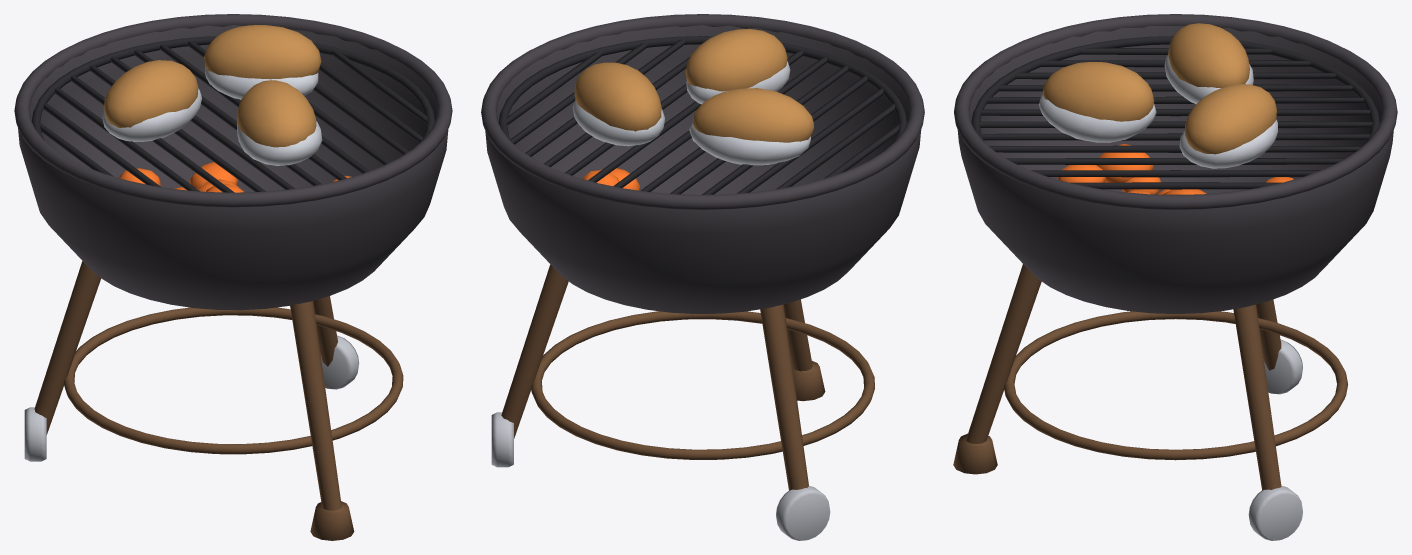
The model's file is HotPotatoGrill.obj.
The picture shows the model from 3 angles, left to right: view 1: azimuth 30°, elevation 25°; view 2: azimuth 150°, elevation 25°; view 3: azimuth 270°, elevation 25°; orthographic projection.
Visible parts, largest first — view 1: Bowl, Legs, Grate, Spuds, Foil, Wheels, Coals; view 2: Bowl, Legs, Grate, Spuds, Foil, Wheels, Coals; view 3: Bowl, Grate, Legs, Spuds, Foil, Wheels, Coals.
Boxes of the visible parts, x1=… form: Bowl: x1=14, y1=14, x2=452, y2=310; Legs: x1=34, y1=261, x2=403, y2=540; Grate: x1=31, y1=36, x2=435, y2=192; Spuds: x1=104, y1=25, x2=321, y2=147; Foil: x1=102, y1=67, x2=322, y2=165; Wheels: x1=24, y1=335, x2=359, y2=461; Coals: x1=119, y1=162, x2=351, y2=192; Bowl: x1=481, y1=14, x2=924, y2=313; Legs: x1=501, y1=264, x2=874, y2=490; Grate: x1=498, y1=36, x2=907, y2=194; Spuds: x1=574, y1=28, x2=813, y2=142; Foil: x1=572, y1=61, x2=810, y2=165; Wheels: x1=491, y1=412, x2=830, y2=540; Coals: x1=582, y1=168, x2=640, y2=190; Bowl: x1=954, y1=14, x2=1397, y2=313; Grate: x1=971, y1=36, x2=1379, y2=194; Legs: x1=953, y1=264, x2=1347, y2=490; Spuds: x1=1042, y1=23, x2=1276, y2=154; Foil: x1=1039, y1=55, x2=1277, y2=168; Wheels: x1=1248, y1=340, x2=1302, y2=540; Coals: x1=1057, y1=143, x2=1293, y2=194.
Size of the model in its own units: 7.98 by 7.98 by 7.99.
